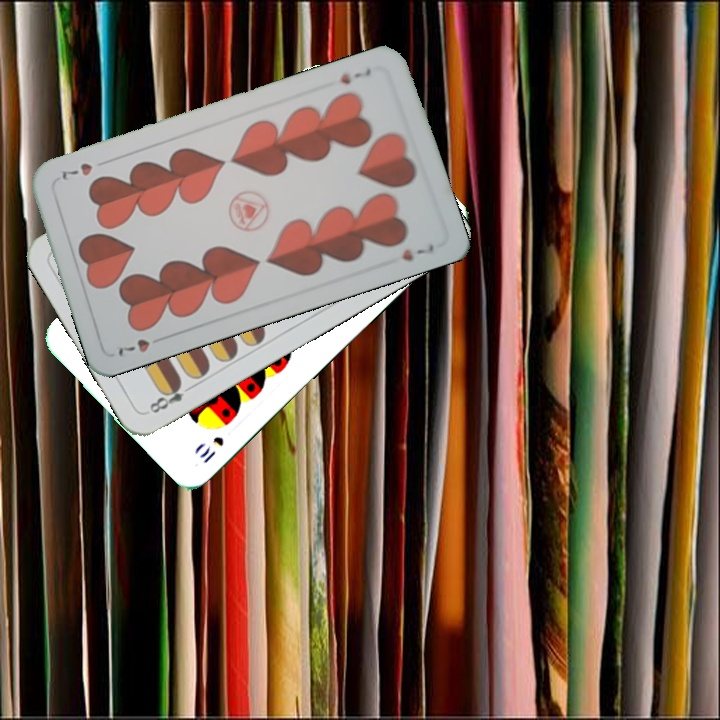E8: (145, 377, 197, 416)
H7: (114, 335, 153, 359), (336, 64, 374, 87)
S10: (195, 432, 227, 466)
